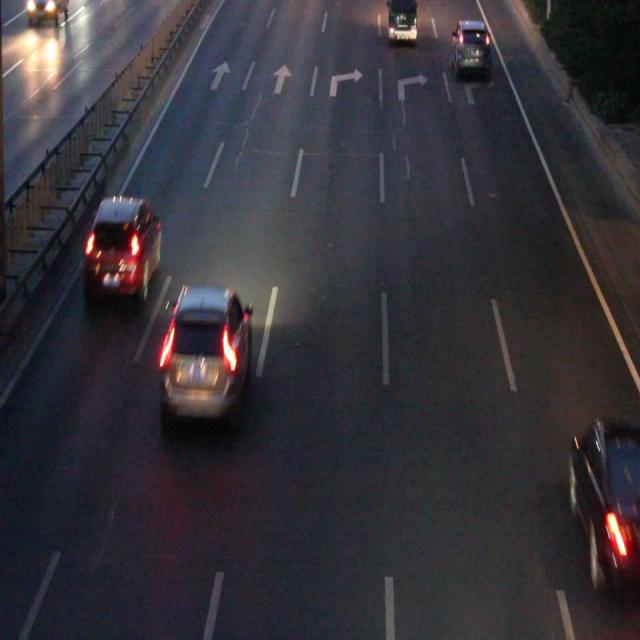car: (158, 286, 252, 419), (569, 416, 640, 578), (86, 197, 160, 297), (450, 23, 489, 78), (386, 1, 416, 42)
